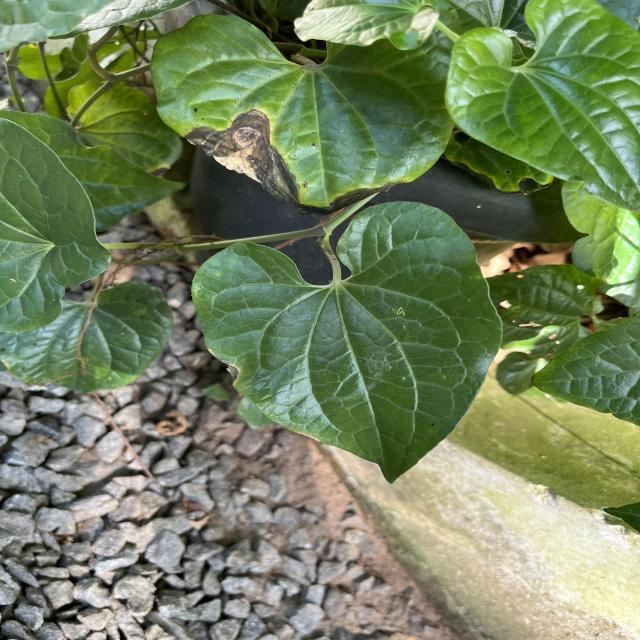Piper longum: (188, 198, 505, 488)
